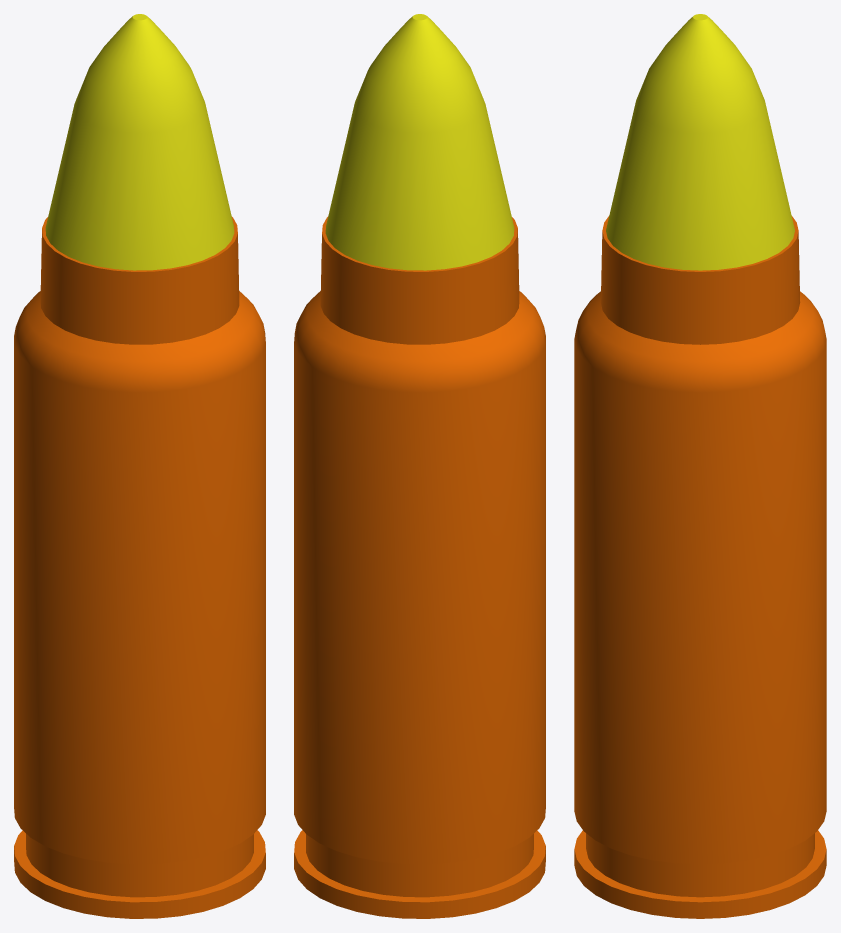
The model's file is bullet.fbx.
3 renders of one model, left to right at view 1: azimuth 30°, elevation 25°; view 2: azimuth 150°, elevation 25°; view 3: azimuth 270°, elevation 25°, orthographic.
Visible parts, largest first — view 1: bullet; view 2: bullet; view 3: bullet.
Boxes of the visible parts, x1=… form: bullet: x1=14, y1=14, x2=265, y2=918; bullet: x1=294, y1=14, x2=545, y2=918; bullet: x1=574, y1=14, x2=826, y2=918.
Bounding box in the file's own units: 200 × 742 × 200.
